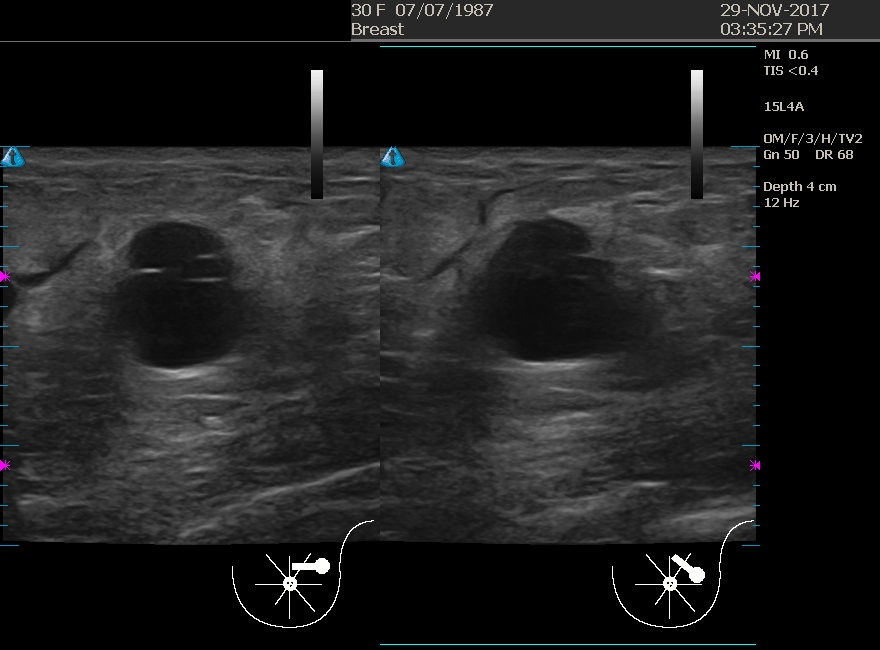BIRADS_4: (98, 190, 290, 382), (463, 201, 655, 393)
